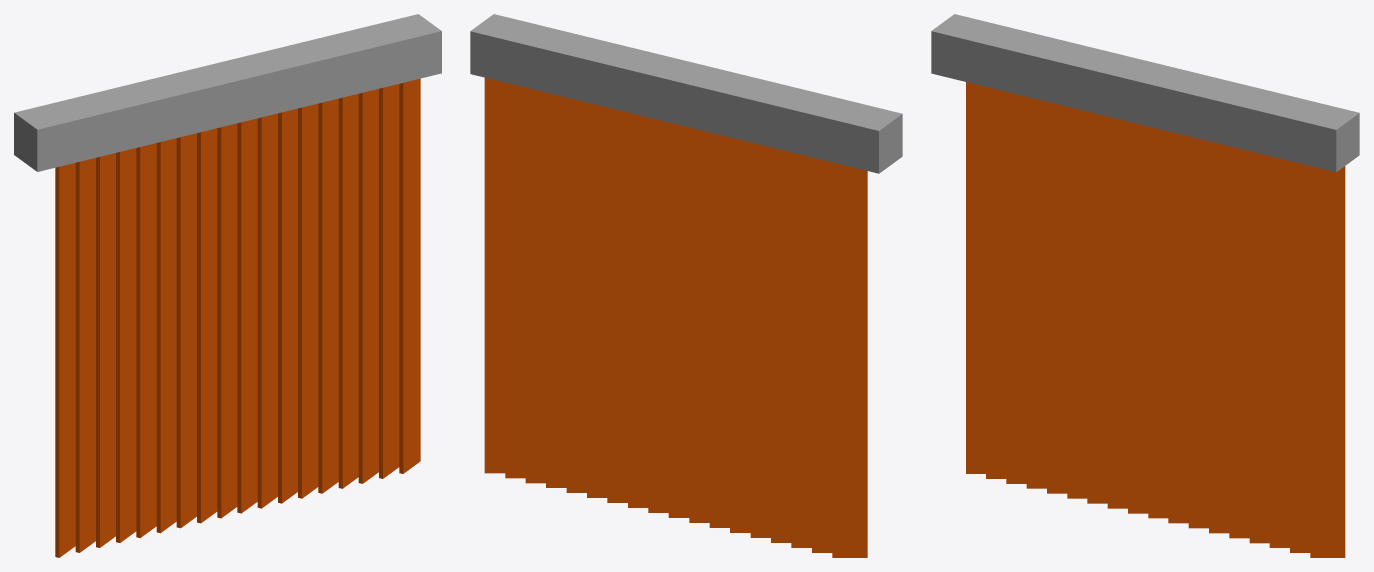
The model's file is Curtail.fbx.
The picture shows the model from 3 angles, left to right: view 1: azimuth 30°, elevation 25°; view 2: azimuth 150°, elevation 25°; view 3: azimuth 330°, elevation 25°; orthographic projection.
Parts seen in each view (by area): view 1: Curtains1; view 2: Curtains1; view 3: Curtains1.
Boxes of the visible parts, x1=… form: Curtains1: x1=14, y1=14, x2=441, y2=557; Curtains1: x1=470, y1=14, x2=902, y2=557; Curtains1: x1=931, y1=14, x2=1359, y2=557.
Size of the model in its own units: 200 by 208 by 20.
